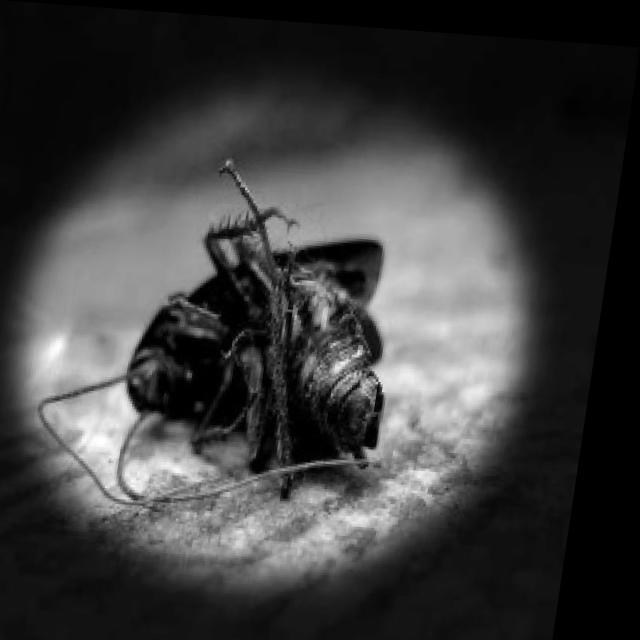cockroach: (35, 153, 396, 512)
